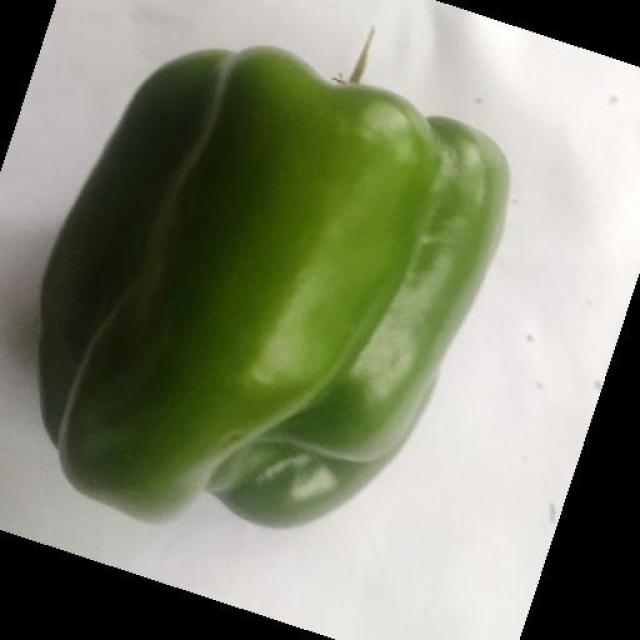Fresh_Capsicum: (78, 73, 444, 526)
